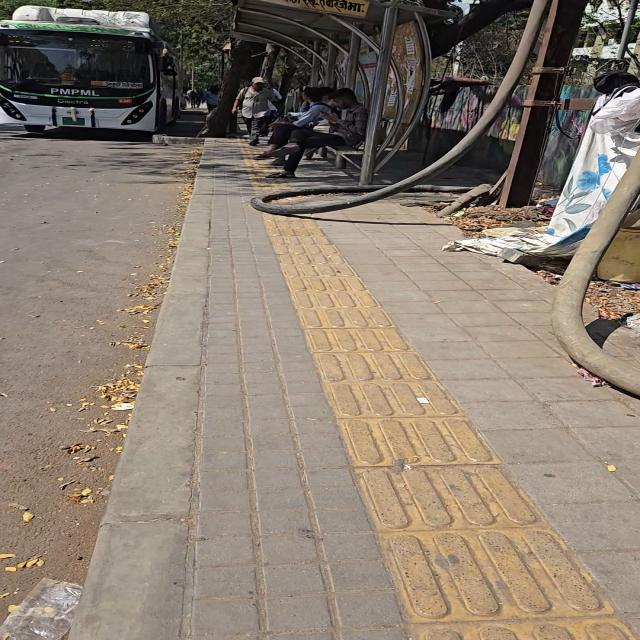obstacle: (500, 0, 587, 207), (47, 0, 232, 73), (57, 0, 233, 61), (360, 6, 397, 185), (201, 39, 264, 137), (425, 0, 532, 57), (453, 12, 527, 83), (618, 0, 638, 60), (346, 32, 360, 90), (261, 45, 280, 83), (332, 146, 362, 169), (325, 44, 337, 86), (310, 56, 320, 86), (220, 50, 225, 83), (191, 67, 194, 90)
